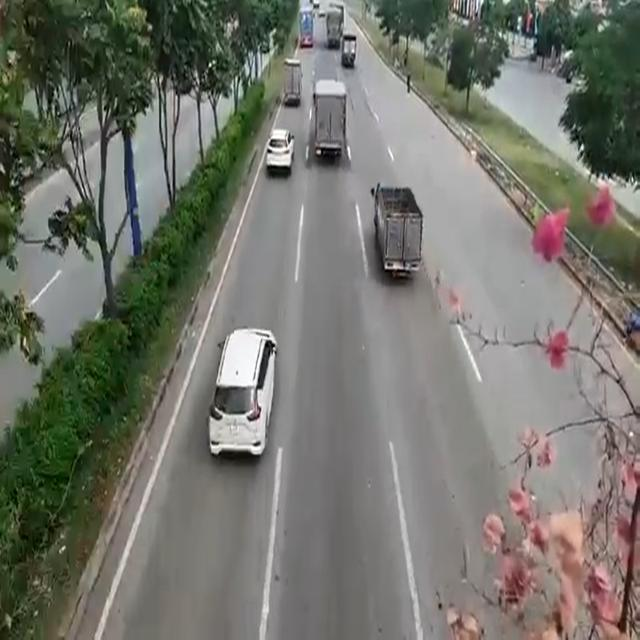car: (214, 317, 270, 448), (268, 125, 291, 172)
truck: (373, 180, 429, 284), (314, 70, 347, 160)
